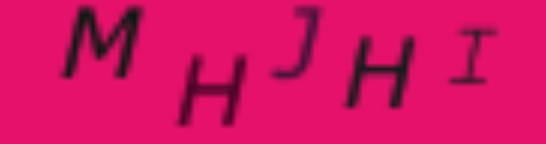H: (341, 30, 421, 118), (178, 51, 250, 131)
I: (446, 22, 502, 91)
J: (264, 1, 327, 82)
M: (60, 1, 145, 83)
